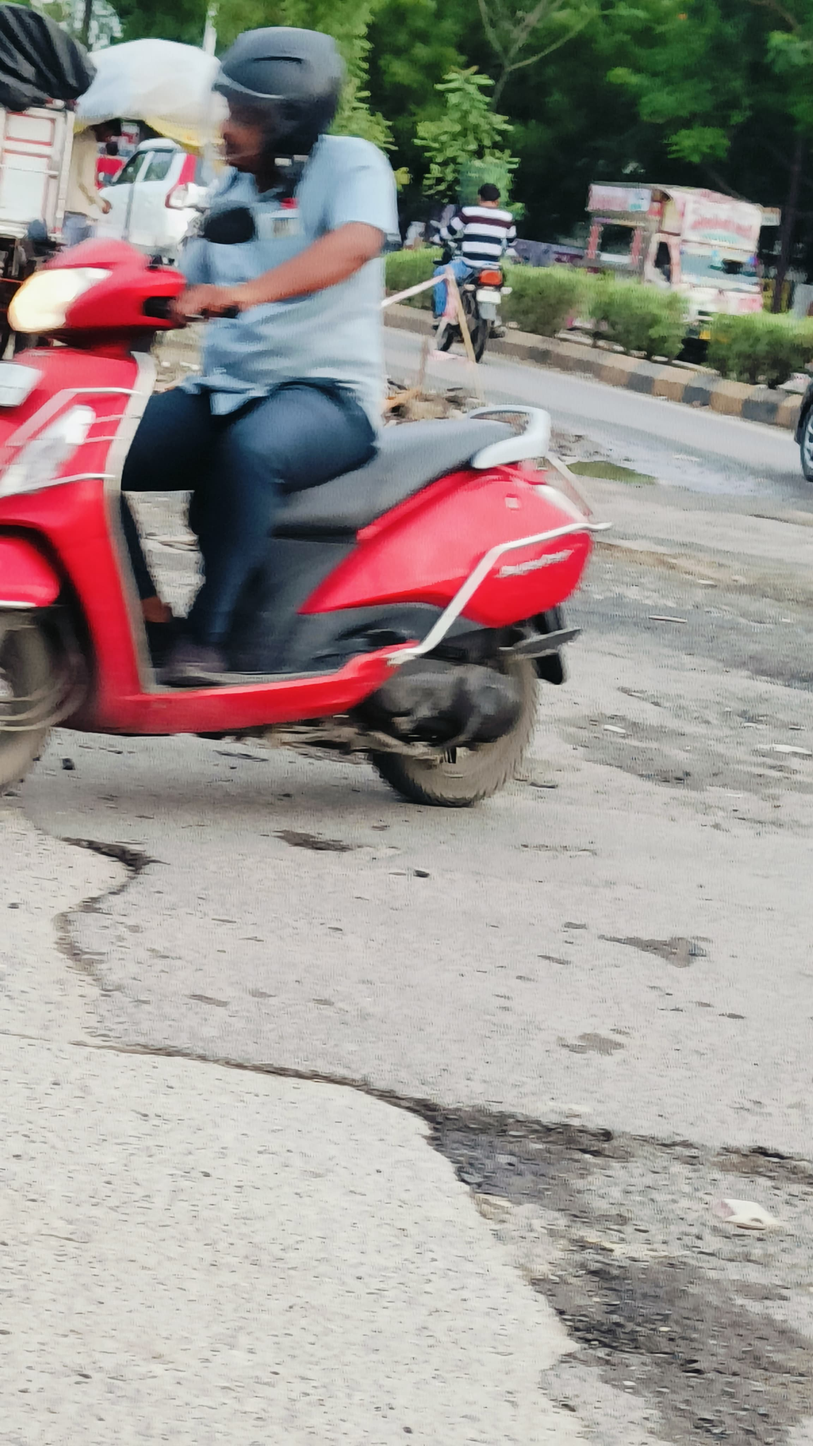BikeWithRider: (0, 13, 609, 831)
Helmet: (186, 16, 358, 195)
